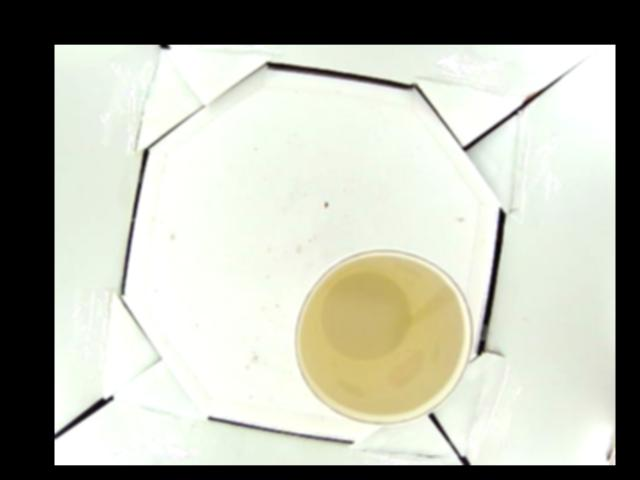Cup: (292, 248, 475, 422)
